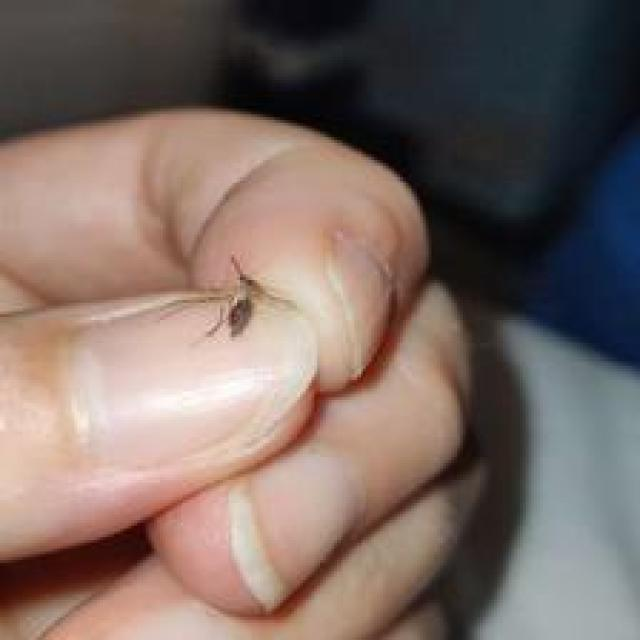Culex: (160, 253, 300, 341)
